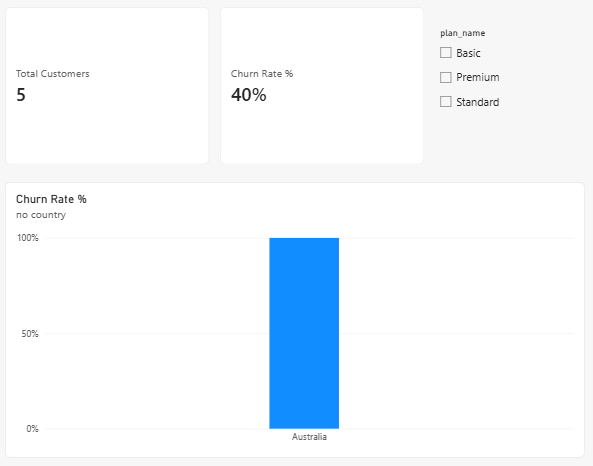

This screenshot's page, from the dashboard's own definition file:
{"tool":"powerbi","page":{"name":"Страница 1","canvas":[1920,1080],"ordinal":0},"visuals":[{"type":"cardVisual","fields":{"Data":["_Measures.Total Customers"]},"box":[114.3,240.8,314.3,242.9],"z":1},{"type":"cardVisual","fields":{"Data":["_Measures.Churn Rate %"]},"box":[444.9,240.8,314.3,242.9],"z":3},{"type":"clusteredColumnChart","fields":{"Category":["public dim_users.country"],"Y":["_Measures.Churn Rate %"]},"box":[114.3,510.2,891.8,424.5],"z":4},{"type":"slicer","fields":{"Values":["public dim_plans.plan_name"]},"box":[775.5,273.5,230.6,210.2],"z":5}]}

Visuals, with their boxes on the page's 1920x1080 design canvas (x1, y1, x2, y2). These are canvas units, not pixel positions in the 593x466 screenshot, which may show the page scaled, cropped or inside an application window:
cardVisual - _Measures.Total Customers: 114:241:429:484
cardVisual - _Measures.Churn Rate %: 445:241:759:484
clusteredColumnChart - public dim_users.country x _Measures.Churn Rate %: 114:510:1006:935
slicer - public dim_plans.plan_name: 776:274:1006:484
